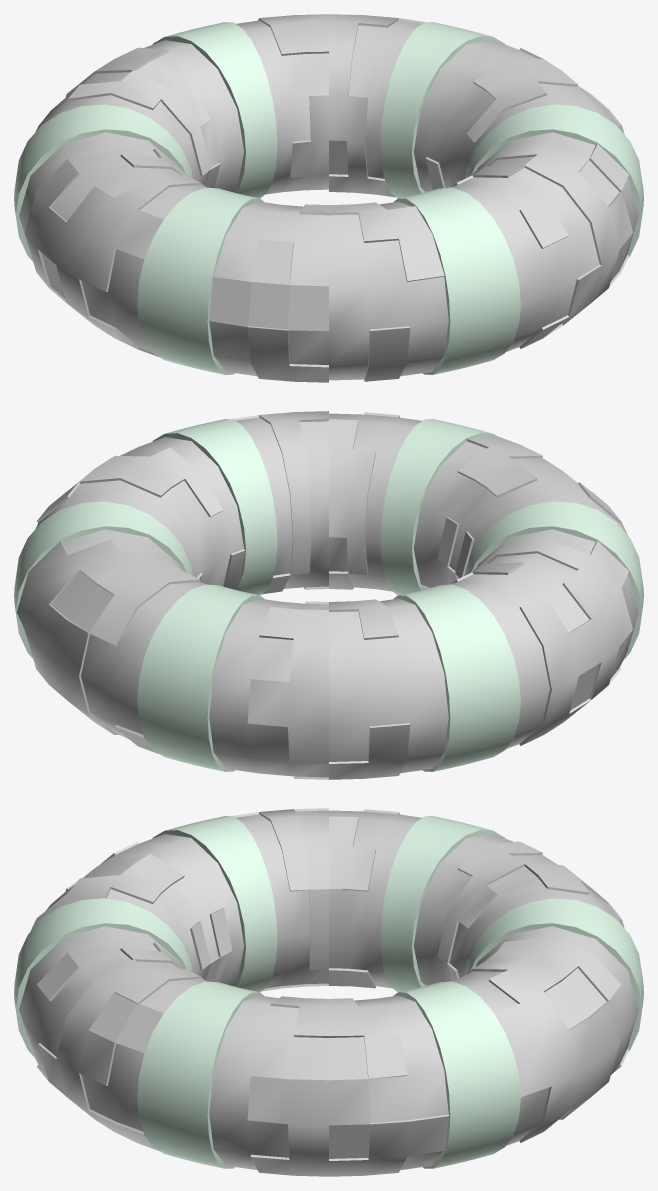
Rendered from Ship2.fbx.
The picture shows the model from 3 angles, top to bottom: view 1: azimuth 30°, elevation 25°; view 2: azimuth 150°, elevation 25°; view 3: azimuth 270°, elevation 25°; orthographic projection.
Parts seen in each view (by area): view 1: Ship, Ring; view 2: Ship, Ring; view 3: Ship, Ring.
Boxes of the visible parts, x1,y1,x2,y2 form: Ship: (19,14,638,382); Ring: (14,22,643,374); Ship: (16,411,638,779); Ring: (14,419,643,771); Ship: (19,808,638,1176); Ring: (14,816,643,1168).
Size of the model in its own units: 254 by 72.62 by 254.
